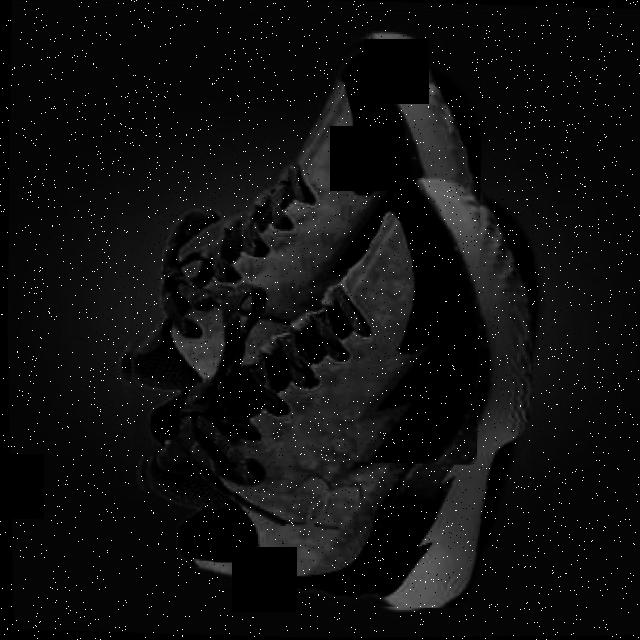shoe: (122, 149, 541, 613), (106, 21, 489, 467)
